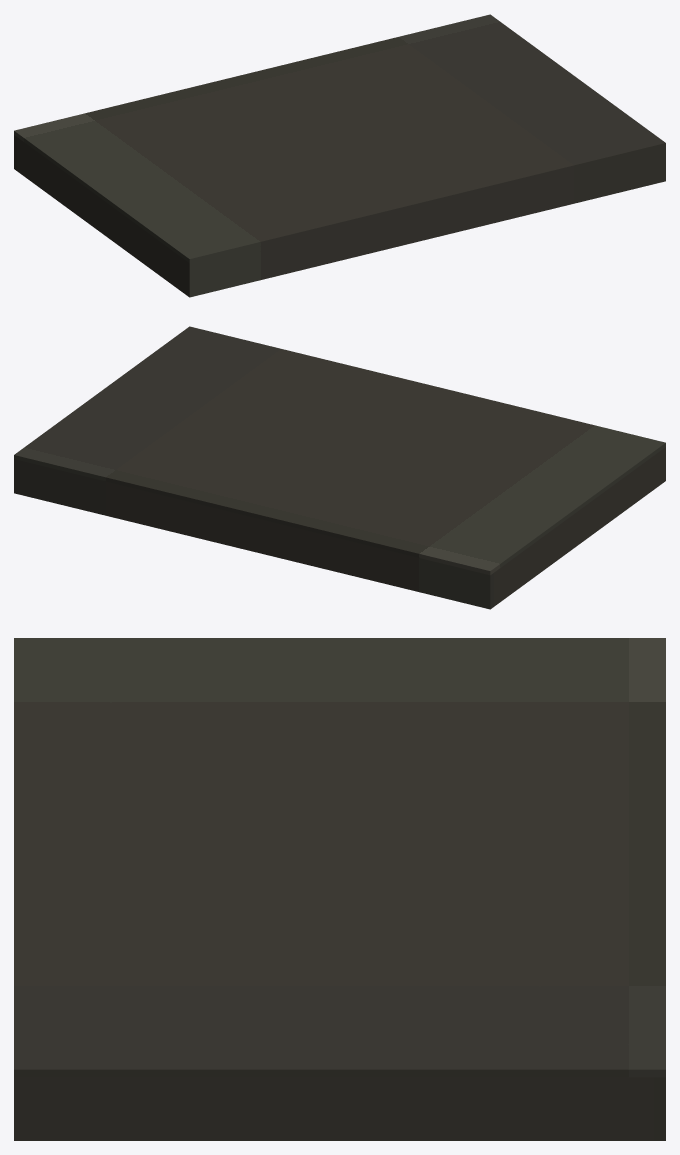
File: JpHouse_21site_a.fbx
The picture shows the model from 3 angles, top to bottom: view 1: azimuth 30°, elevation 25°; view 2: azimuth 150°, elevation 25°; view 3: azimuth 270°, elevation 25°; orthographic projection. The views are drawn at different scales.
Parts seen in each view (by area): view 1: JpHouse_21site_a; view 2: JpHouse_21site_a; view 3: JpHouse_21site_a.
Boxes of the visible parts, x1=… form: JpHouse_21site_a: x1=14, y1=14, x2=665, y2=297; JpHouse_21site_a: x1=14, y1=326, x2=665, y2=609; JpHouse_21site_a: x1=14, y1=638, x2=665, y2=1140.
Bounding box in the file's own units: 13 × 1 × 8.3.
